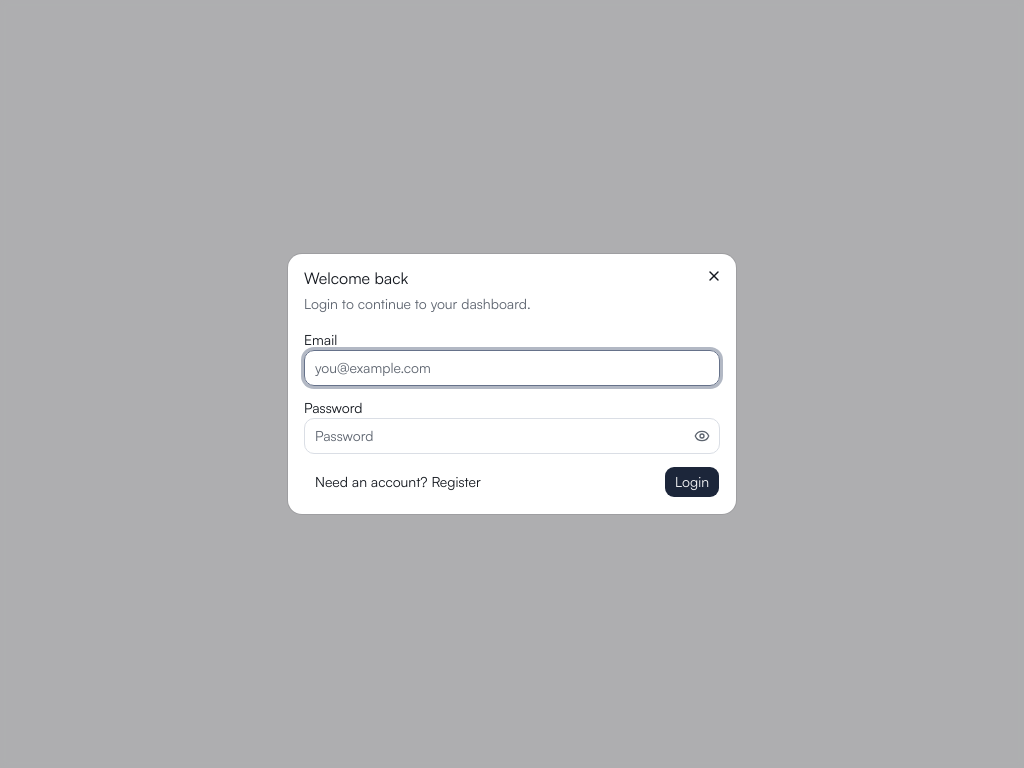
Test case: AuthDialog › shows the backend 401 for incorrect credentials after a short login password
Type "ada@example.com" into the field labelled "Email" at (512, 368), box top-left (304, 350), bottom-right (720, 386)
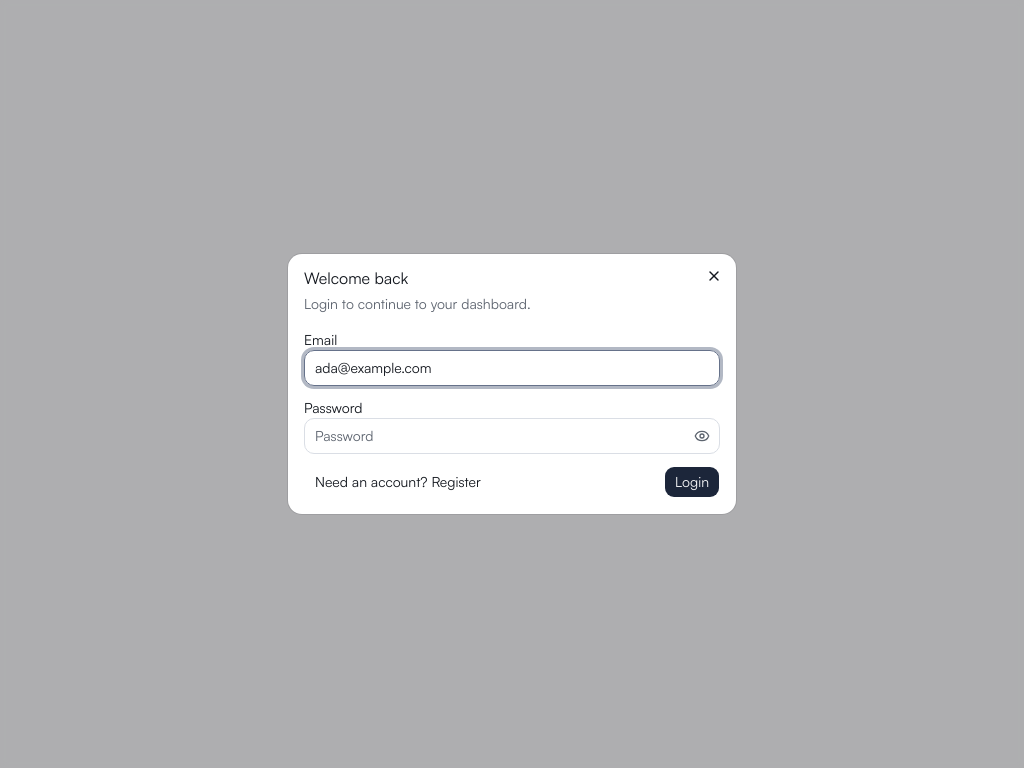
Type "x" into the password field labelled "Password" at (512, 436), box top-left (304, 418), bottom-right (720, 454)
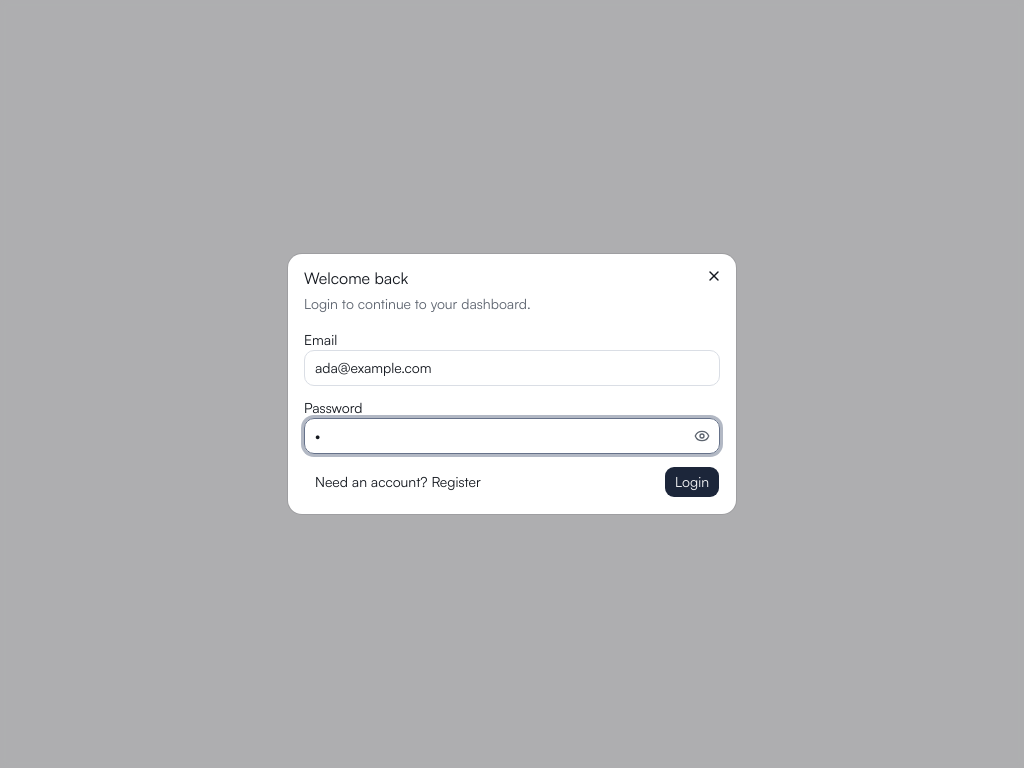
Click the button "Login" at (692, 482), box top-left (664, 466), bottom-right (720, 498)
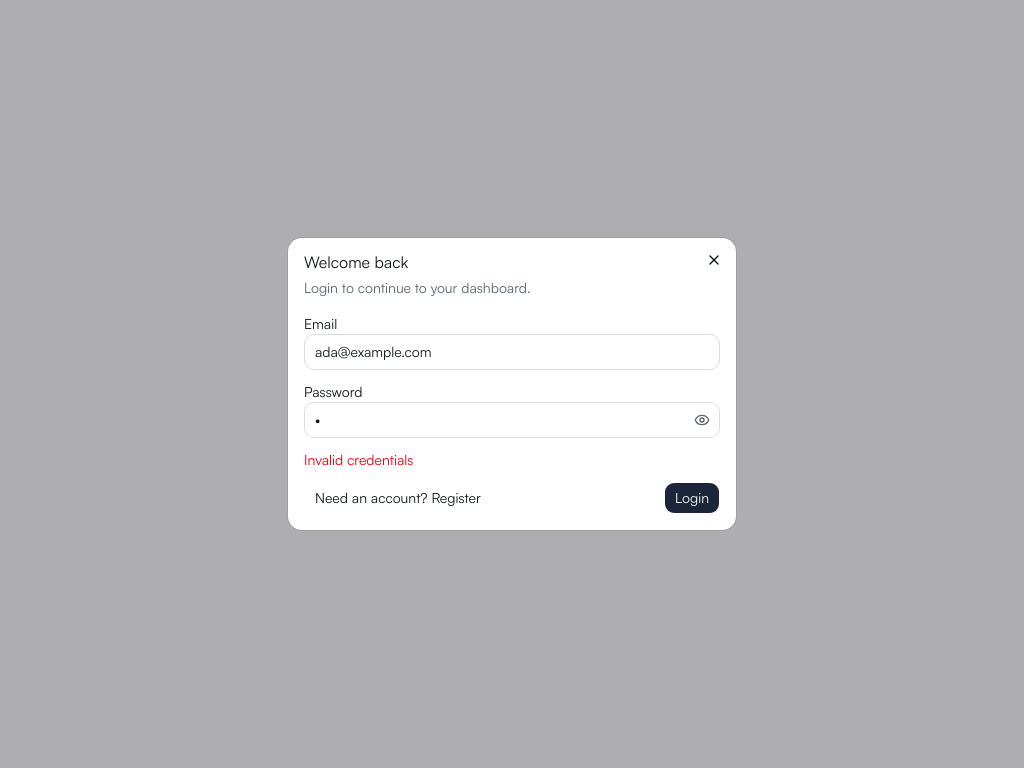
Now the message reads "Invalid credentials", box top-left (304, 451), bottom-right (413, 468)
